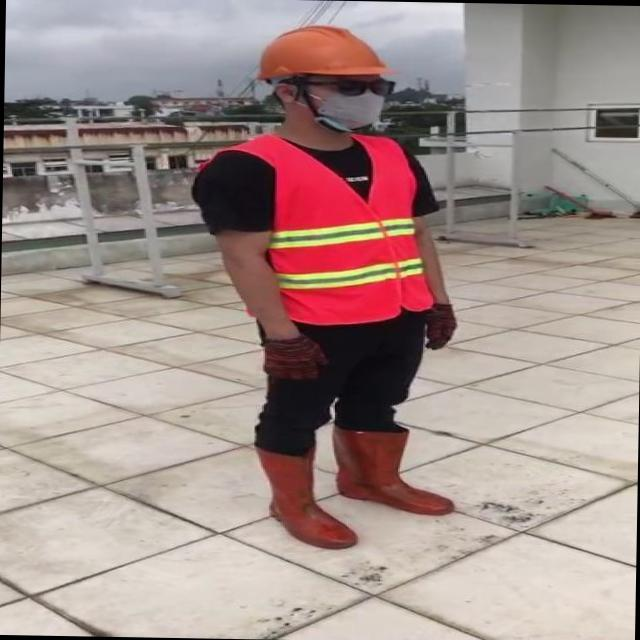hard_hat: (248, 20, 398, 81)
safety_vest: (252, 135, 430, 321)
vehicle: (181, 16, 497, 565)
work_boots: (328, 424, 456, 516), (255, 443, 359, 548)
